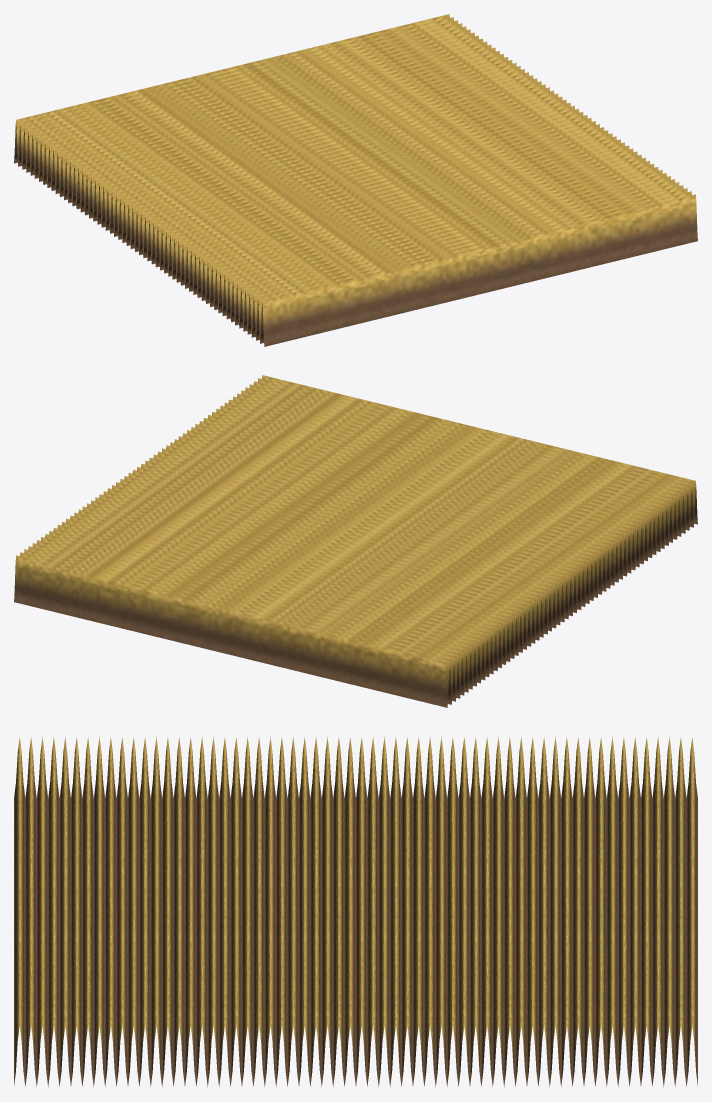
Rendered from field_barley_ripe.glb.
3 renders of one model, top to bottom at view 1: azimuth 30°, elevation 25°; view 2: azimuth 150°, elevation 25°; view 3: azimuth 270°, elevation 25°, orthographic. The views are drawn at different scales.
Visible parts, largest first — view 1: field_barley_ripe; view 2: field_barley_ripe; view 3: field_barley_ripe.
Boxes of the visible parts, left/top/right/bottom form: field_barley_ripe: left=14, top=14, right=697, bottom=346; field_barley_ripe: left=14, top=375, right=697, bottom=707; field_barley_ripe: left=14, top=736, right=697, bottom=1086.
Bounding box in the file's own units: 10 × 1 × 10.
1 material, 1 textured.
